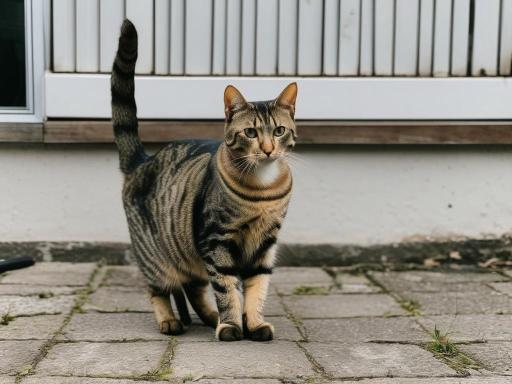cat_standing: (112, 19, 298, 341)
